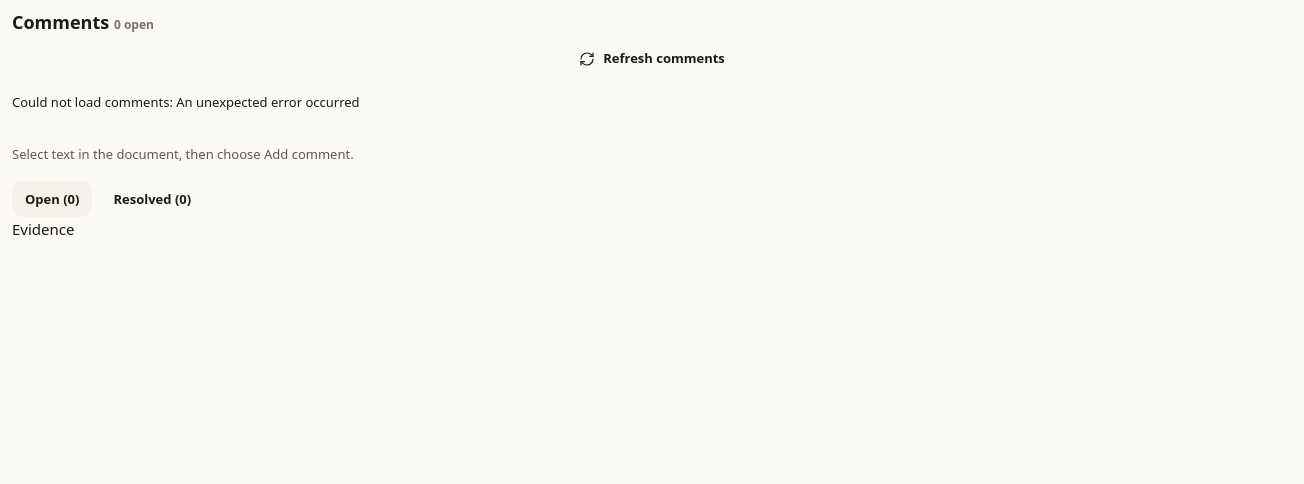
handles failed list requests, refreshes, and keeps orphaned server comments readable without an editor
Expected: the message "Could not load comments: An unexpected error occurred" is shown, [12, 93, 360, 111]
Click the button "Refresh comments" at (652,59), box [12, 42, 1292, 76]
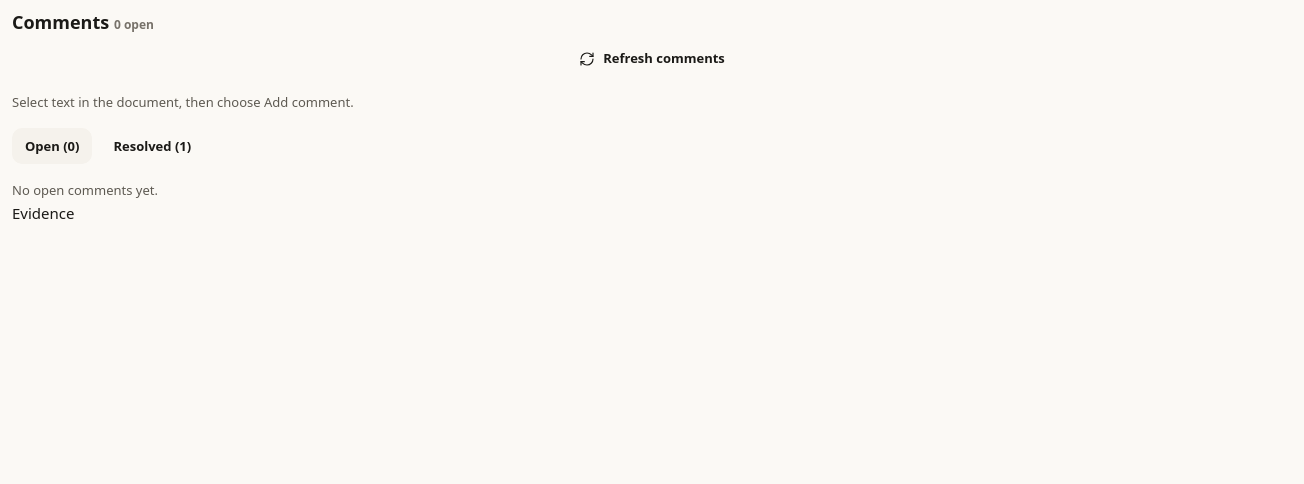
Now the button "Resolved (1)" is shown
Click the button "Resolved (1)" at (152,146), box [100, 128, 204, 164]
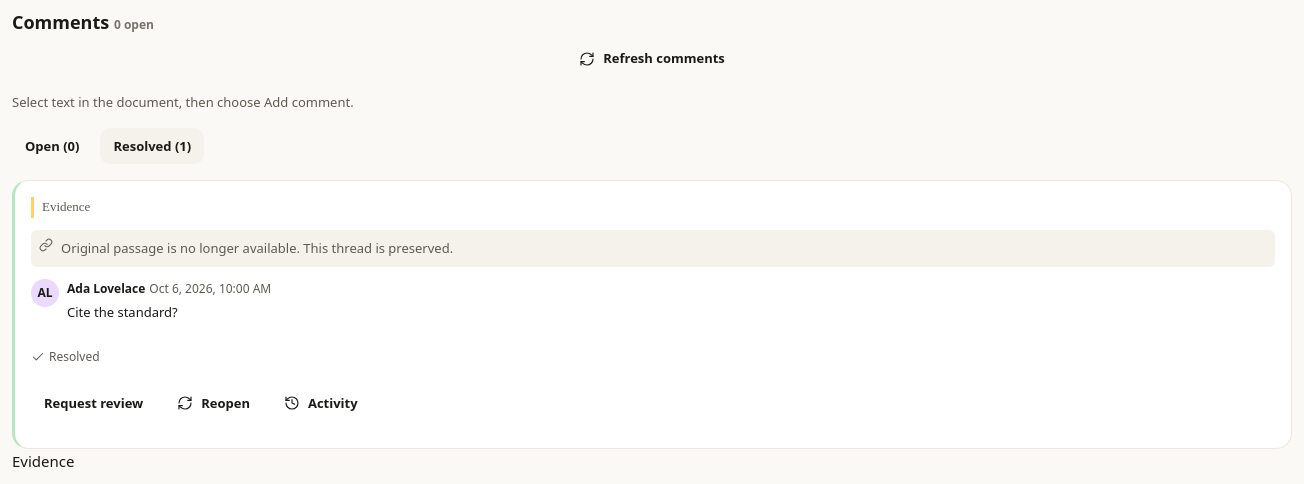
Now the text "Original passage is no longer available" is shown, box [61, 239, 453, 257]
